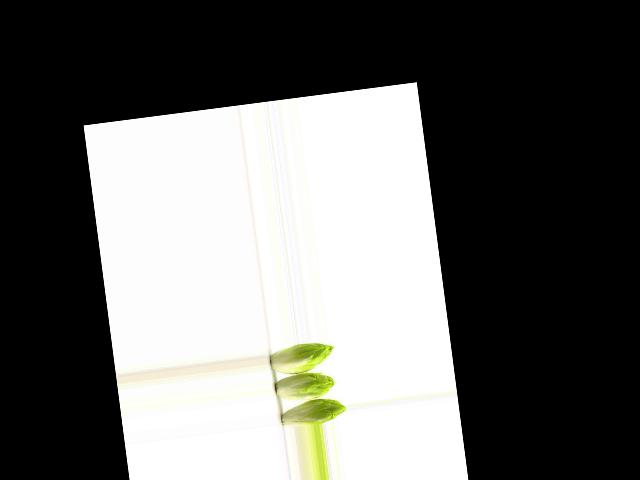lettuce: (266, 339, 336, 376)
